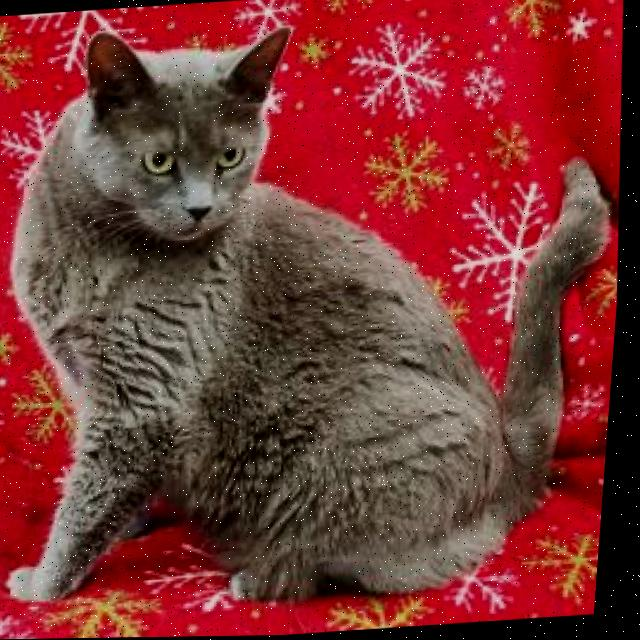Russian Blue: (0, 0, 640, 629)
